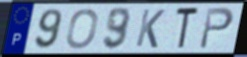9: (32, 7, 64, 51), (101, 6, 130, 52)
K: (133, 8, 167, 50)
O: (64, 8, 100, 50)
P: (198, 6, 236, 51)
T: (175, 5, 201, 51)
